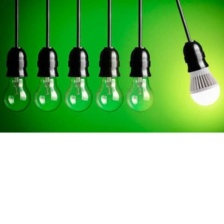light_bulb: (182, 54, 224, 108), (123, 70, 158, 115), (61, 72, 94, 114), (92, 72, 124, 113), (1, 72, 33, 113), (32, 72, 63, 114)
